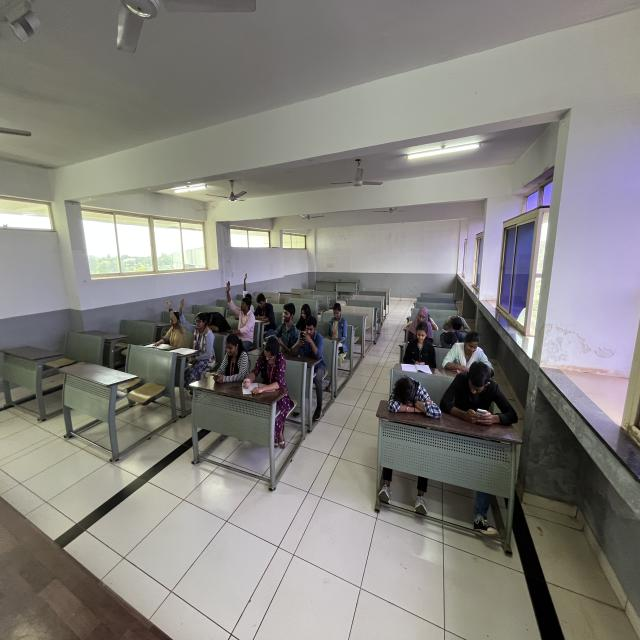Hand Rising: (176, 292, 212, 364), (222, 272, 246, 338), (160, 292, 186, 352), (238, 269, 254, 314)
Reading: (400, 319, 437, 372), (252, 292, 279, 330)
Sleeping: (384, 371, 440, 424), (438, 311, 476, 340)
Using Phone: (436, 361, 508, 431), (206, 332, 256, 386), (288, 316, 332, 367)
Writing: (240, 332, 298, 401)
